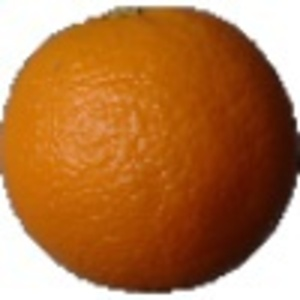laranja: (4, 2, 293, 296)
